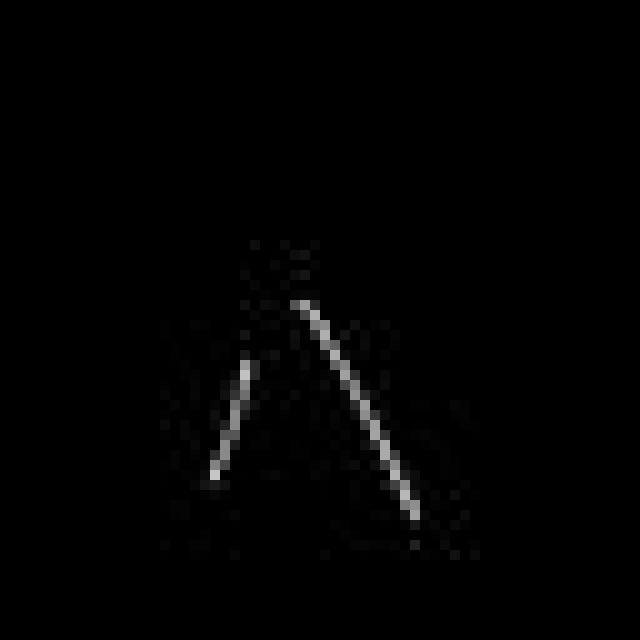8 -eight-: (196, 290, 442, 542)
